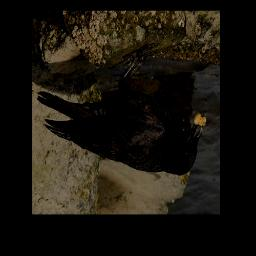Crow: (37, 43, 206, 177)
